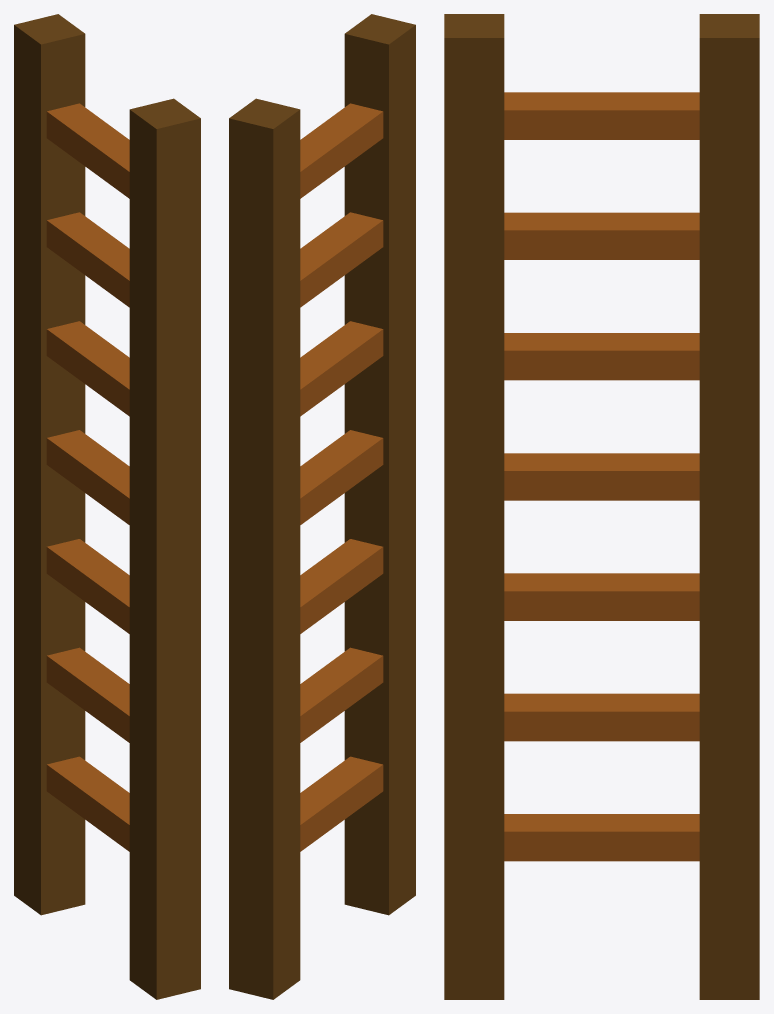
File: SM_Stair.fbx
3 renders of one model, left to right at view 1: azimuth 30°, elevation 25°; view 2: azimuth 150°, elevation 25°; view 3: azimuth 270°, elevation 25°, orthographic. The views are drawn at different scales.
Parts seen in each view (by area): view 1: SM_Escada; view 2: SM_Escada; view 3: SM_Escada.
Boxes of the visible parts, <box> form: SM_Escada: <box>14,14,200,999</box>; SM_Escada: <box>229,14,415,999</box>; SM_Escada: <box>444,14,759,999</box>.
Size of the model in its own units: 11.75 by 221 by 65.45.
